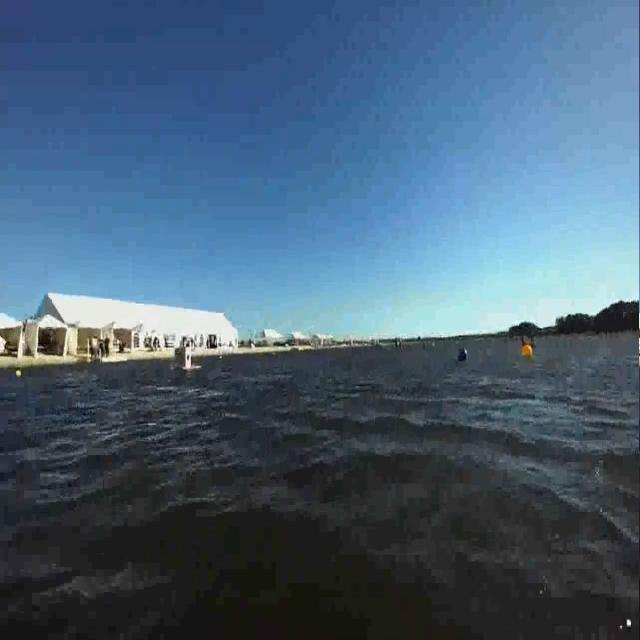black-buoy: (460, 347, 470, 363)
yellow-buoy: (520, 343, 533, 356)
